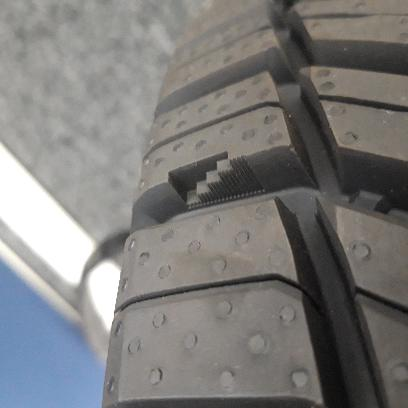temoin:100: (166, 149, 269, 212)
